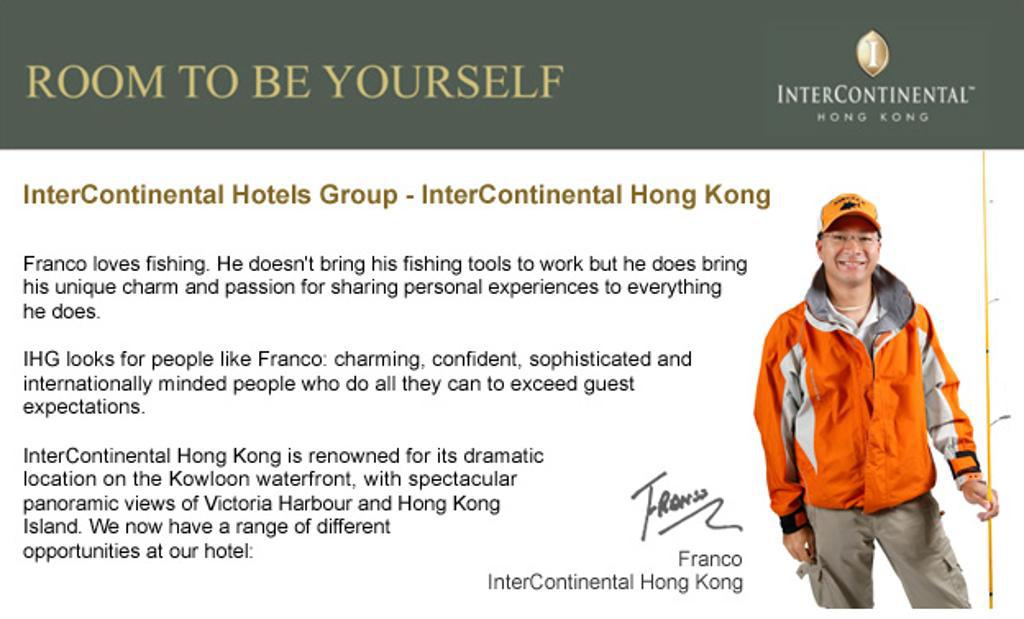face: (827, 217, 881, 281)
